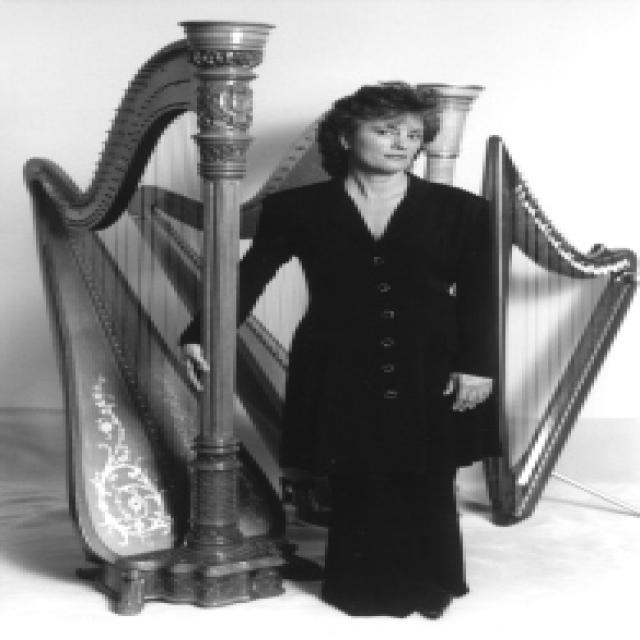harp: (17, 19, 315, 612), (135, 81, 499, 521), (467, 134, 637, 533)
